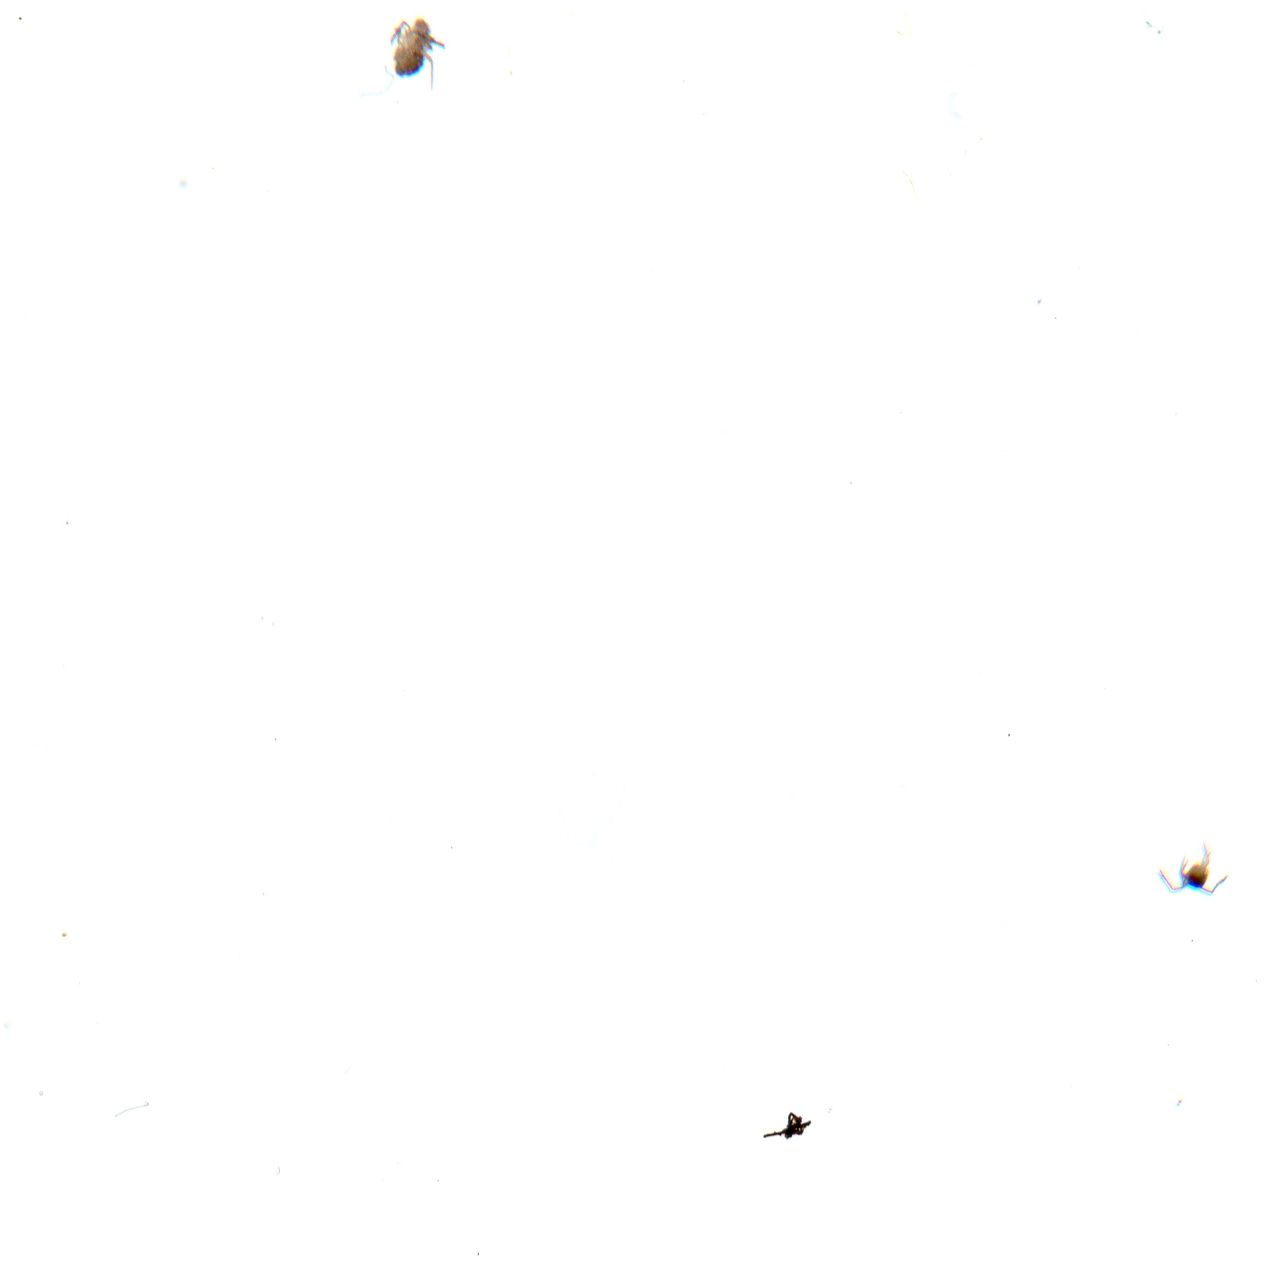arthropod: (386, 14, 450, 93), (1152, 840, 1233, 899)
